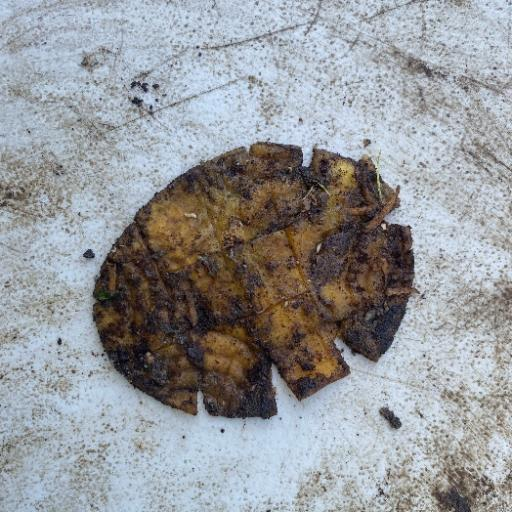Waste: (90, 140, 418, 420)
